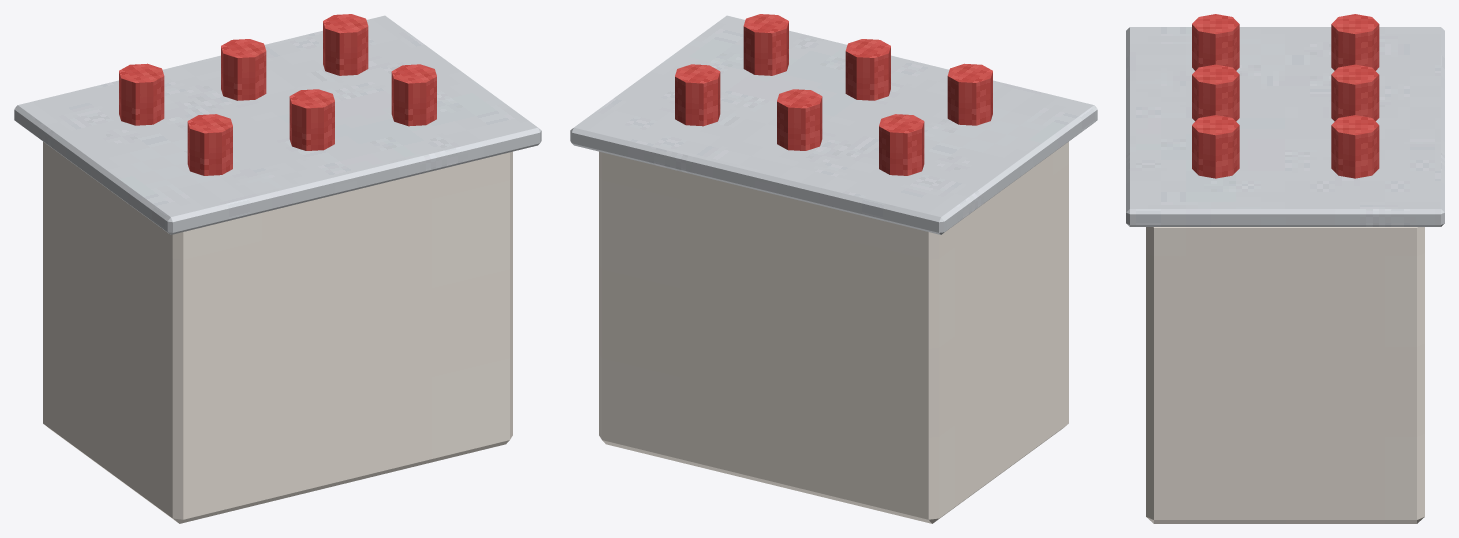
3 renders of one model, left to right at view 1: azimuth 30°, elevation 25°; view 2: azimuth 150°, elevation 25°; view 3: azimuth 270°, elevation 25°, orthographic.
Parts seen in each view (by area): view 1: Decor_candy_apple_tray; view 2: Decor_candy_apple_tray; view 3: Decor_candy_apple_tray.
Boxes of the visible parts, x1,y1,x2,y2 form: Decor_candy_apple_tray: (14,14,541,523); Decor_candy_apple_tray: (570,14,1097,523); Decor_candy_apple_tray: (1126,14,1444,523).
Size of the model in its own units: 1.1 by 1.02 by 0.8.
Materials: 3 (3 with a texture image).
